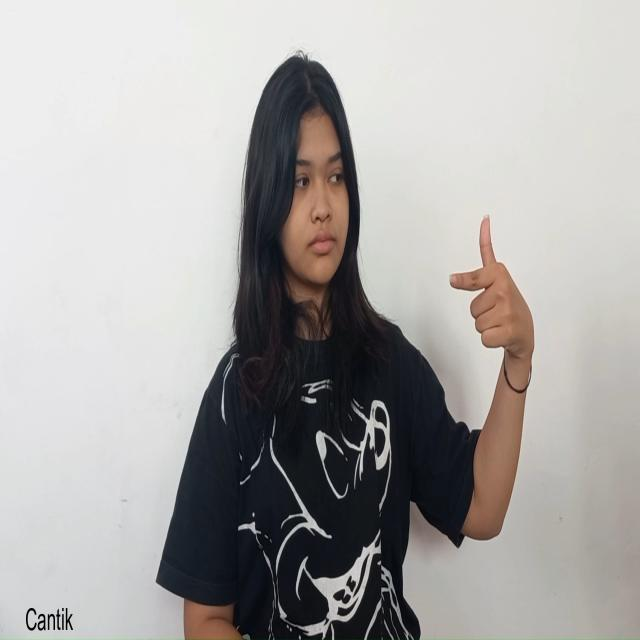Cantik -BISINDO-: (447, 210, 535, 412)
